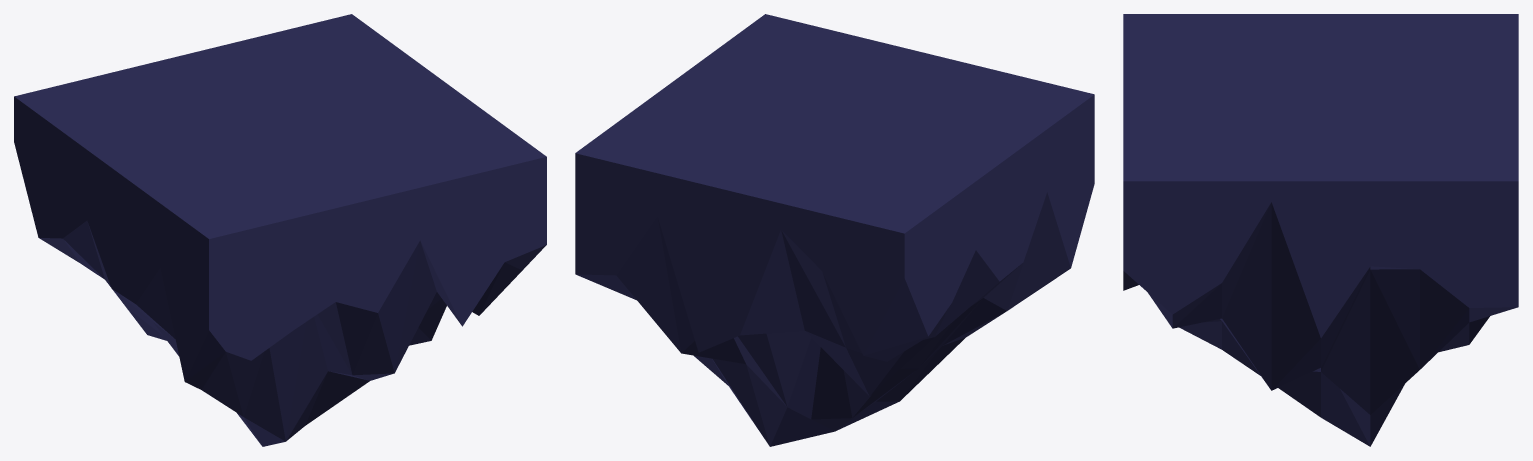
Rendered from Floortile1.fbx.
3 views of the same model, side by side, from view 1: azimuth 30°, elevation 25°; view 2: azimuth 150°, elevation 25°; view 3: azimuth 270°, elevation 25° (orthographic). The views are drawn at different scales.
Visible parts, largest first — view 1: Box006; view 2: Box006; view 3: Box006.
Boxes of the visible parts, x1,y1,x2,y2 form: Box006: (14,14,546,446); Box006: (575,14,1094,446); Box006: (1123,14,1518,446).
Bounding box in the file's own units: 100 × 100 × 91.61.
